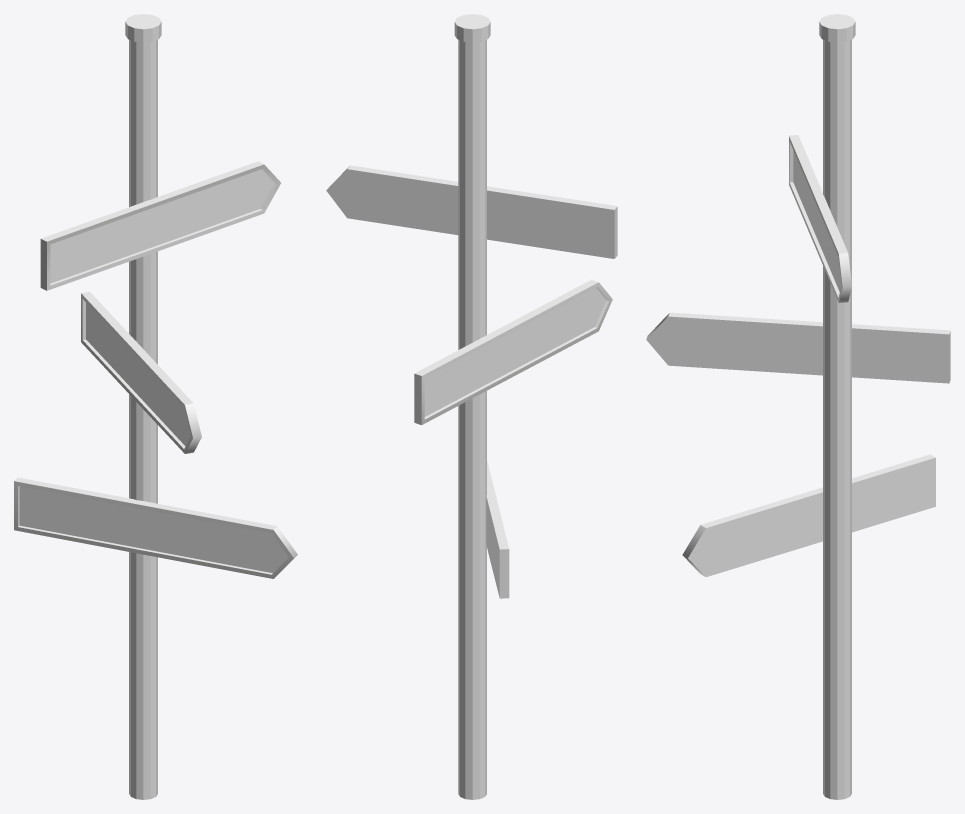
File: señal1.fbx
The picture shows the model from 3 angles, left to right: view 1: azimuth 30°, elevation 25°; view 2: azimuth 150°, elevation 25°; view 3: azimuth 270°, elevation 25°; orthographic projection.
Parts seen in each view (by area): view 1: señal1; view 2: señal1; view 3: señal1.
Part boxes in pixels (bbox=[...]): señal1: bbox=[14, 14, 297, 799]; señal1: bbox=[326, 14, 617, 799]; señal1: bbox=[646, 14, 950, 799].
Bounding box in the file's own units: 276 × 774 × 277.
